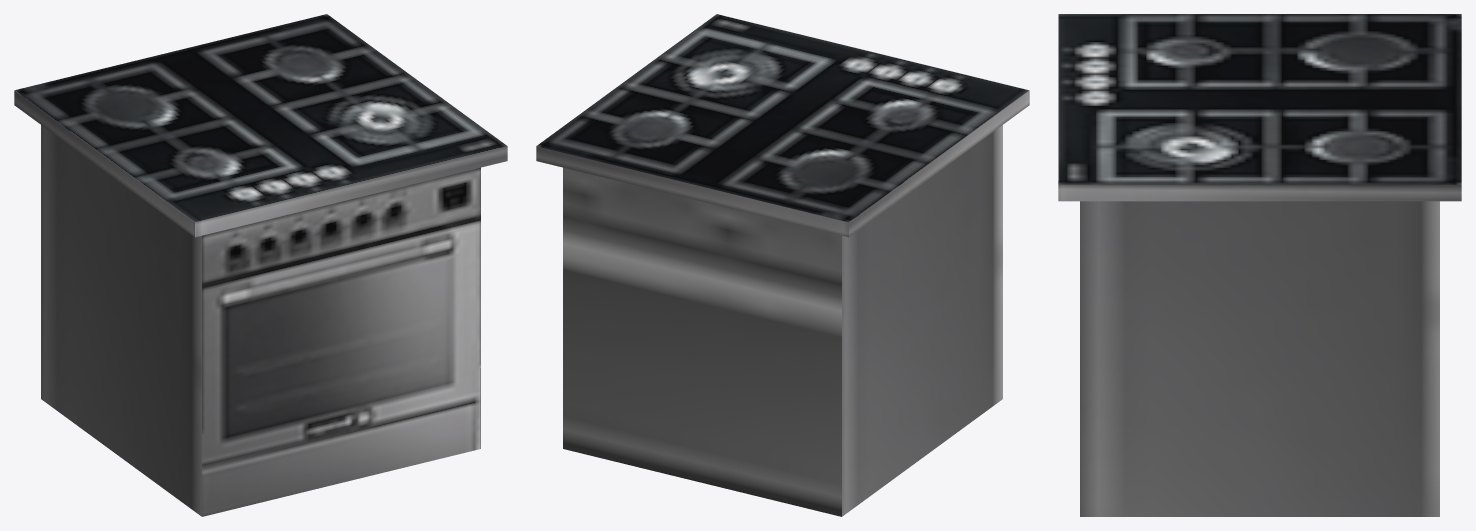
The model's file is Stove.fbx.
3 renders of one model, left to right at view 1: azimuth 30°, elevation 25°; view 2: azimuth 150°, elevation 25°; view 3: azimuth 270°, elevation 25°, orthographic. The views are drawn at different scales.
Parts seen in each view (by area): view 1: KitchenStove; view 2: KitchenStove; view 3: KitchenStove.
Boxes of the visible parts, x1,y1,x2,y2 form: KitchenStove: (14, 14, 507, 516); KitchenStove: (536, 14, 1029, 516); KitchenStove: (1058, 14, 1461, 516).
Bounding box in the file's own units: 218 × 204 × 218.
